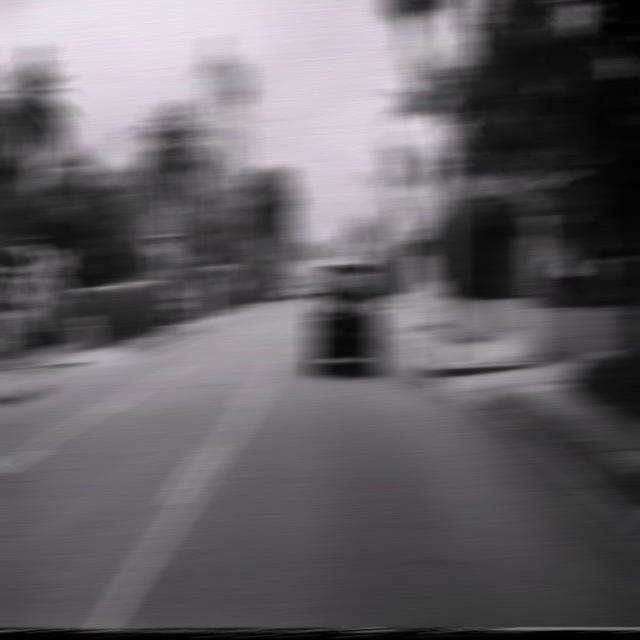pedestrianCrossing: (381, 192, 417, 240)
